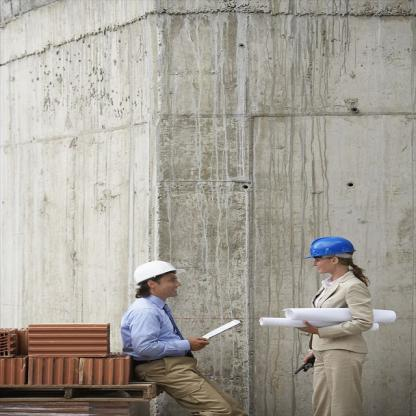helmet: (301, 230, 359, 280), (128, 251, 185, 301)
